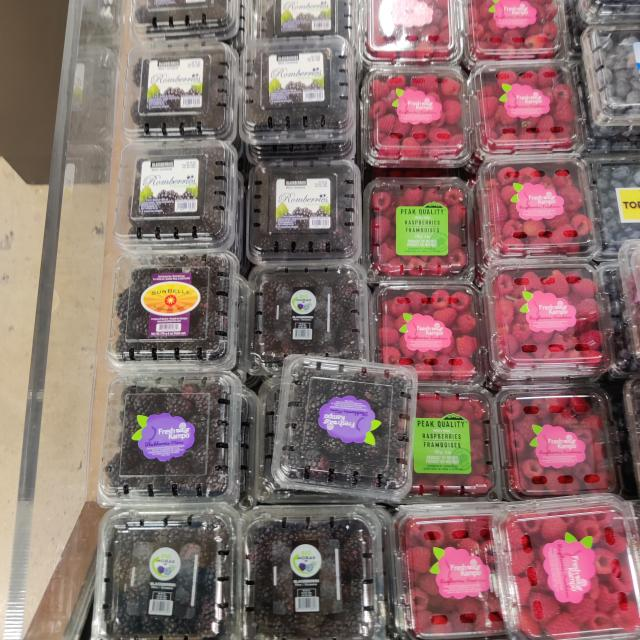Blackberries: (276, 354, 419, 493), (242, 510, 390, 640), (103, 367, 244, 503), (108, 506, 238, 640), (252, 269, 376, 392), (246, 32, 361, 151), (112, 250, 235, 360), (250, 160, 366, 262), (126, 143, 238, 247), (135, 43, 240, 143)
Raspberries: (502, 503, 640, 640), (486, 264, 622, 378), (396, 501, 504, 636), (369, 179, 483, 286), (480, 162, 605, 258), (498, 392, 612, 494), (366, 60, 472, 164), (472, 60, 585, 156), (378, 290, 482, 380), (406, 386, 492, 491)
